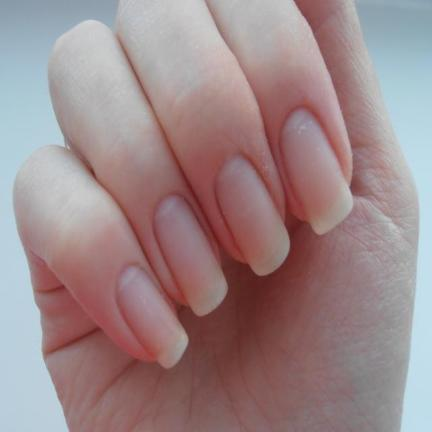Nail: (279, 109, 355, 236), (153, 195, 229, 317), (214, 157, 291, 276), (116, 265, 190, 370)
